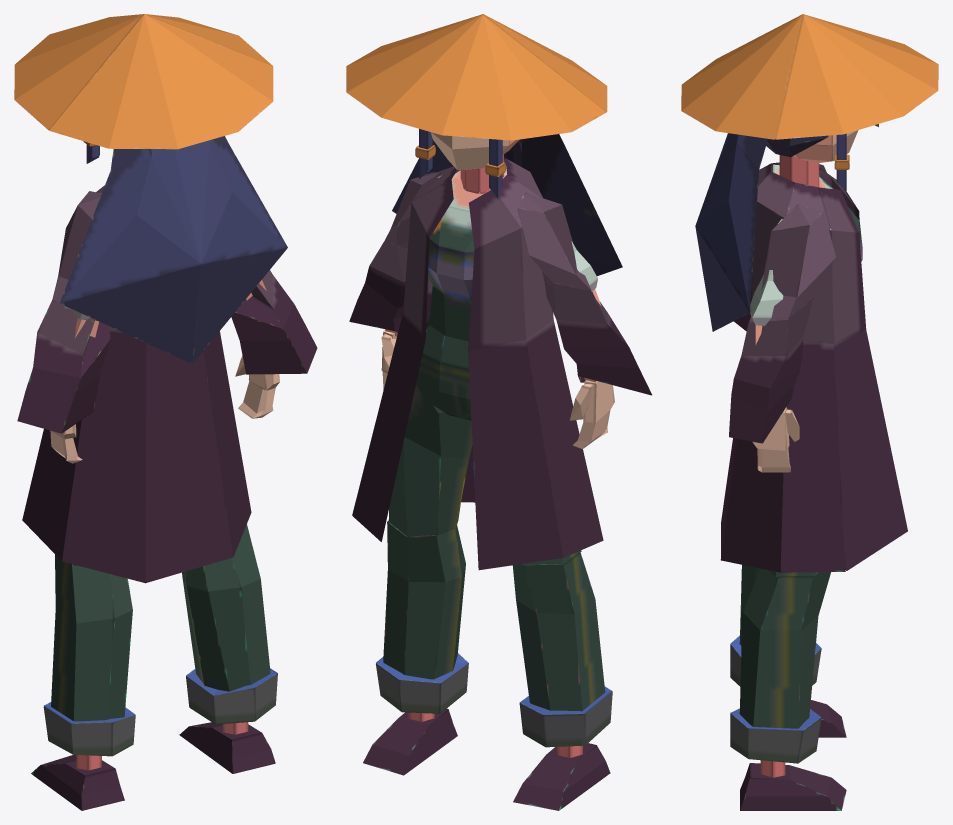
File: char 4.fbx
3 views of the same model, side by side, from view 1: azimuth 30°, elevation 25°; view 2: azimuth 150°, elevation 25°; view 3: azimuth 270°, elevation 25° (orthographic).
Visible parts, largest first — view 1: jack, hair back, hat, calf2, calf1, forearm 2 inner, forearm 1 inner, wrap1, wrap2, foot 2, foot 1, arm 2 (+2 smaller); view 2: jack, hat, calf2, calf1, thigh1, torso, hair back, forearm 2 inner, arm 2, foot 2, foot 1, forearm 1 inner (+9 smaller); view 3: jack, hat, calf1, hair back, forearm 1 inner, arm 1, foot 1, wrap1, shoudler1, neck, head, foot 2 (+5 smaller).
Boxes of the visible parts, x1,y1,x2,y2 form: jack: (22, 185, 251, 583); hair back: (59, 136, 287, 363); hat: (14, 14, 273, 149); calf2: (51, 554, 132, 723); calf1: (182, 524, 270, 691); forearm 2 inner: (17, 300, 110, 433); forearm 1 inner: (231, 270, 317, 374); wrap1: (186, 668, 277, 724); wrap2: (43, 702, 135, 756); foot 2: (31, 754, 124, 810); foot 1: (179, 722, 275, 773); arm 2: (52, 191, 101, 321); jack: (352, 157, 603, 570); hat: (346, 14, 607, 140); calf2: (512, 552, 605, 715); calf1: (383, 521, 465, 683); thigh1: (388, 384, 472, 536); torso: (422, 166, 507, 369); hair back: (392, 134, 622, 276); forearm 2 inner: (545, 283, 651, 395); arm 2: (517, 192, 591, 290); foot 2: (513, 743, 610, 810); foot 1: (363, 708, 457, 775); forearm 1 inner: (349, 241, 407, 332); jack: (720, 162, 907, 572); hat: (681, 14, 938, 139); calf1: (739, 568, 830, 731); hair back: (695, 133, 767, 331); forearm 1 inner: (729, 297, 813, 443); arm 1: (749, 204, 835, 322); foot 1: (740, 763, 846, 810); wrap1: (730, 708, 821, 763); shoudler1: (750, 219, 783, 325); neck: (779, 155, 819, 187); head: (794, 130, 858, 162); foot 2: (810, 700, 846, 737).
Size of the model in its own units: 218 by 520 by 162.
1 material, 1 textured.
